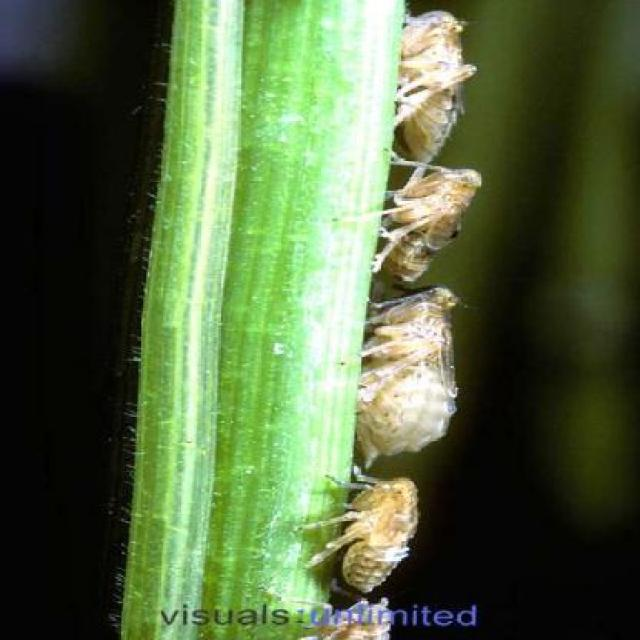brown-planthopper: (354, 288, 477, 452), (331, 468, 434, 590), (375, 167, 487, 278), (394, 8, 464, 161)
